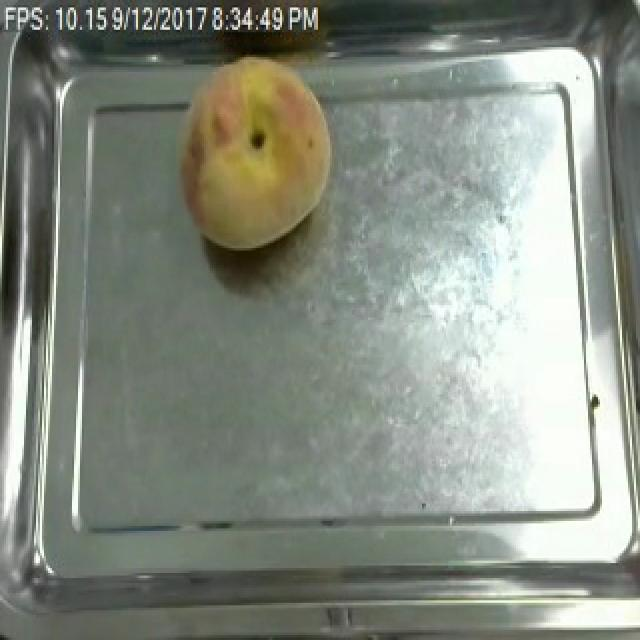Fruit: (172, 45, 344, 258)
